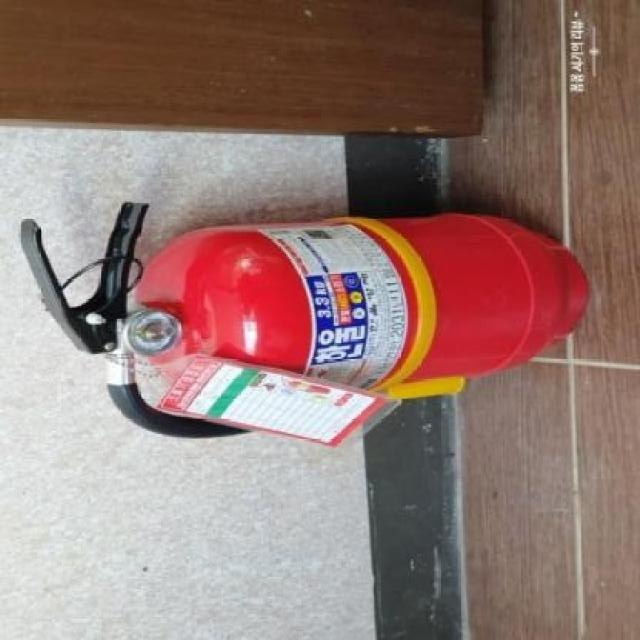fire extinguisher: (18, 200, 591, 438)
